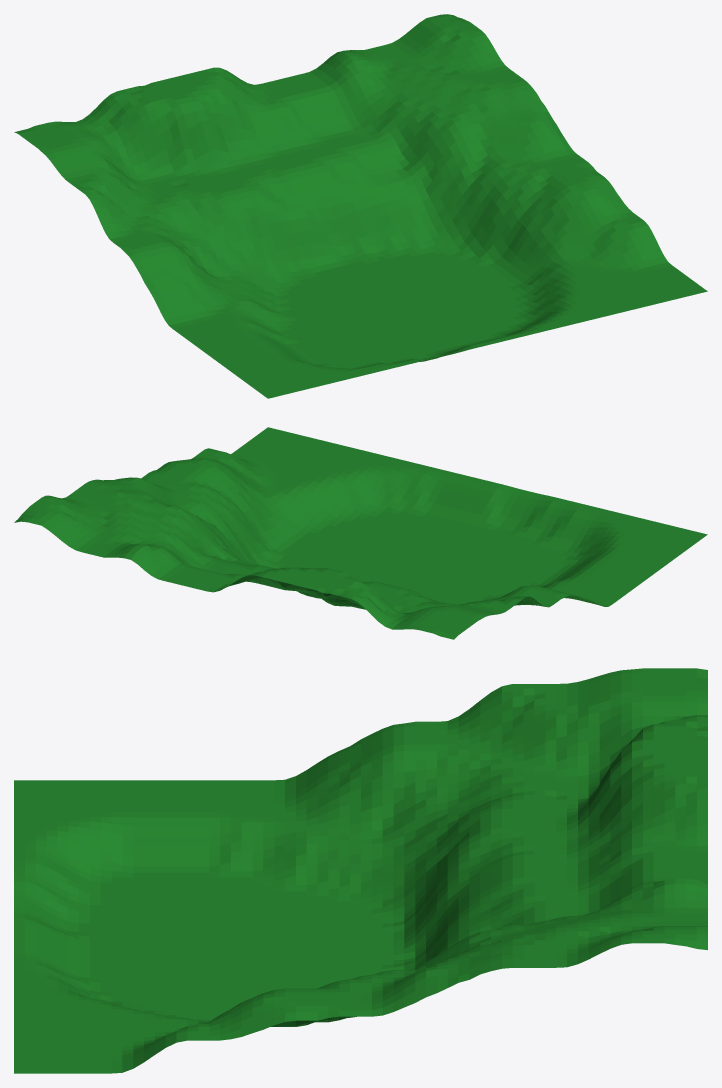
Rendered from test_landscape.glb.
3 views of the same model, one above another, from view 1: azimuth 30°, elevation 25°; view 2: azimuth 150°, elevation 25°; view 3: azimuth 270°, elevation 25° (orthographic). The views are drawn at different scales.
Visible parts, largest first — view 1: Plane; view 2: Plane; view 3: Plane.
Part boxes in pixels (x1=…): Plane: x1=14, y1=14, x2=707, y2=398; Plane: x1=14, y1=427, x2=707, y2=639; Plane: x1=14, y1=668, x2=707, y2=1073.
Bounding box in the file's own units: 330 × 84.23 × 330.
